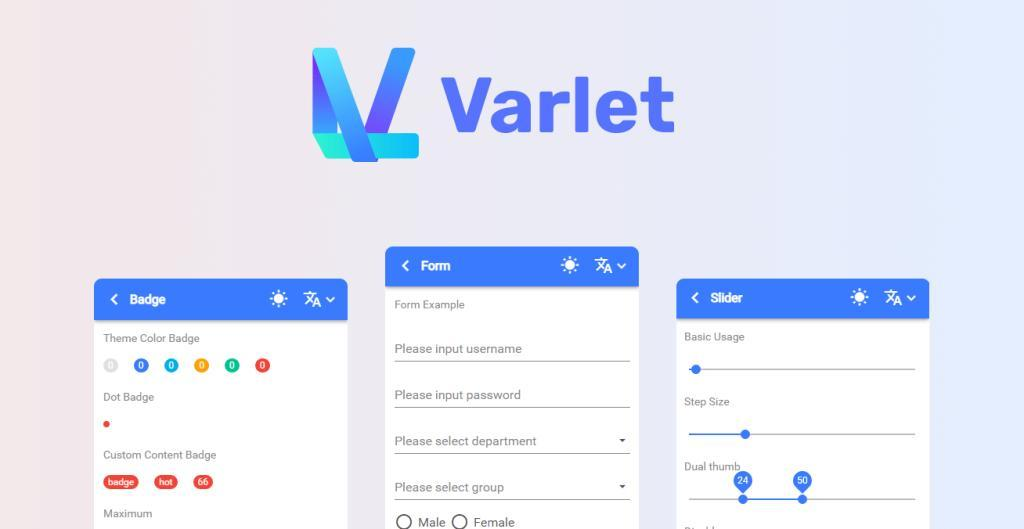button: (101, 473, 141, 492), (152, 474, 183, 492), (192, 475, 219, 491)
icon: (304, 283, 324, 314), (593, 253, 614, 281), (268, 287, 291, 310), (560, 254, 580, 277), (851, 286, 870, 310), (883, 289, 902, 311), (109, 291, 124, 310), (400, 256, 413, 277), (690, 289, 704, 308), (326, 292, 339, 308), (907, 292, 920, 306), (619, 433, 630, 449), (617, 260, 628, 272), (619, 481, 629, 494)
label: (102, 448, 219, 466), (102, 331, 202, 349), (392, 299, 467, 314), (684, 331, 749, 346), (682, 393, 734, 411), (102, 505, 153, 522), (685, 460, 742, 474), (104, 391, 157, 406), (129, 292, 172, 310), (710, 287, 745, 309), (471, 516, 520, 529), (420, 258, 454, 275), (417, 515, 447, 529)
radio: (395, 513, 413, 529), (452, 513, 470, 529)
slider: (689, 474, 919, 512), (682, 357, 921, 385), (685, 419, 921, 447)
